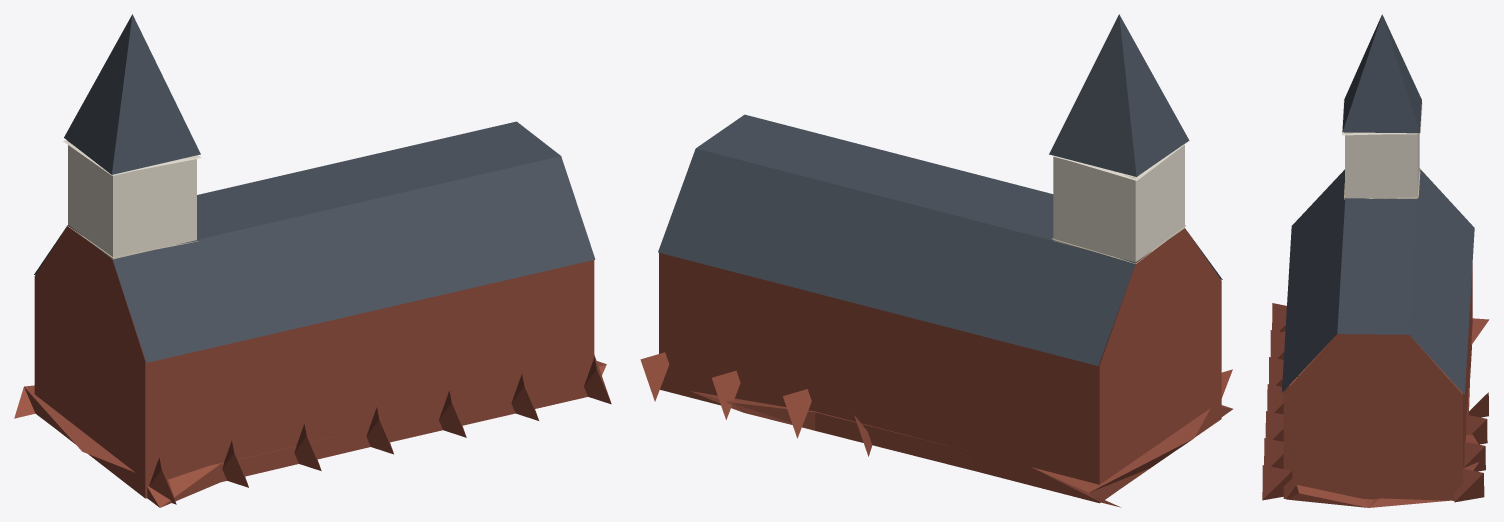
File: petruskerk.lod2.glb
3 views of the same model, side by side, from view 1: azimuth 30°, elevation 25°; view 2: azimuth 150°, elevation 25°; view 3: azimuth 270°, elevation 25° (orthographic). The views are drawn at different scales.
Parts seen in each view (by area): view 1: lod2; view 2: lod2; view 3: lod2.
Part boxes in pixels (box(x1,y1,x2,y2)): lod2: box(14, 14, 611, 507); lod2: box(640, 14, 1232, 507); lod2: box(1262, 14, 1489, 507).
Size of the model in its own units: 27.62 by 23.55 by 14.49.
